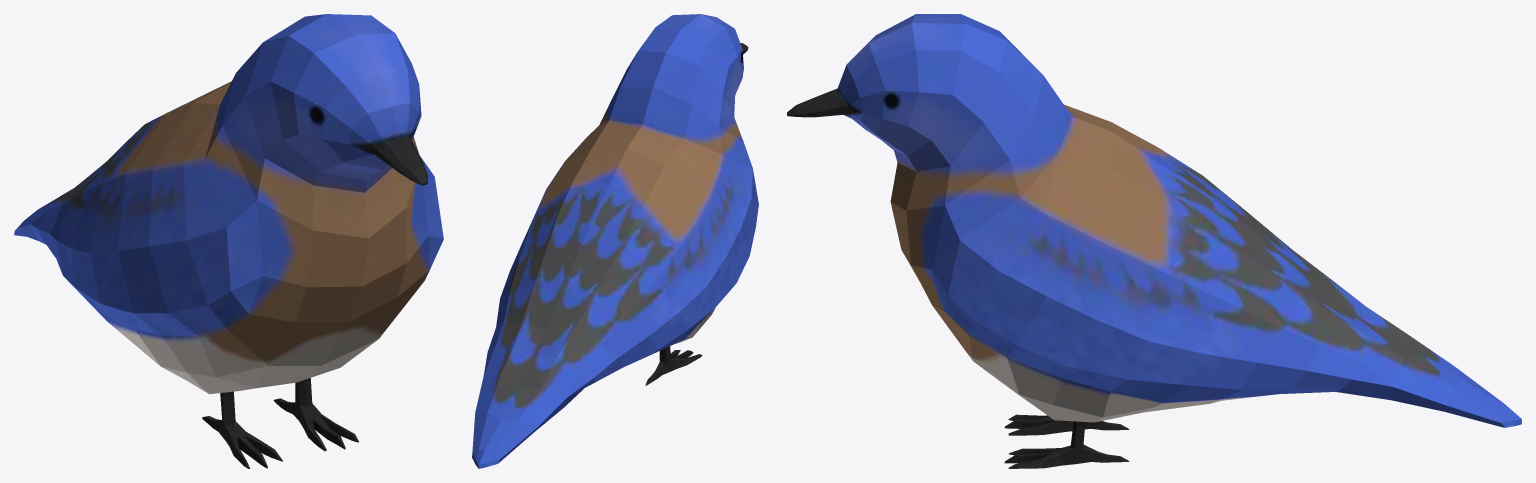
Rendered from animals-western-bluebird-207.glb.
The picture shows the model from 3 angles, left to right: view 1: azimuth 30°, elevation 25°; view 2: azimuth 150°, elevation 25°; view 3: azimuth 270°, elevation 25°; orthographic projection. The views are drawn at different scales.
Visible parts, largest first — view 1: WesternBluebird_Mesh; view 2: WesternBluebird_Mesh; view 3: WesternBluebird_Mesh.
Boxes of the visible parts, x1=… form: WesternBluebird_Mesh: x1=14, y1=14, x2=443, y2=468; WesternBluebird_Mesh: x1=472, y1=14, x2=758, y2=468; WesternBluebird_Mesh: x1=787, y1=14, x2=1521, y2=468.
Bounding box in the file's own units: 0.6694 × 1.06 × 1.67.
1 material, 1 textured.
